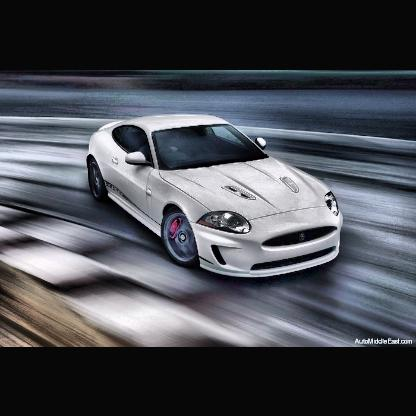Jaguar XK XKR 2012: (87, 115, 346, 279)
